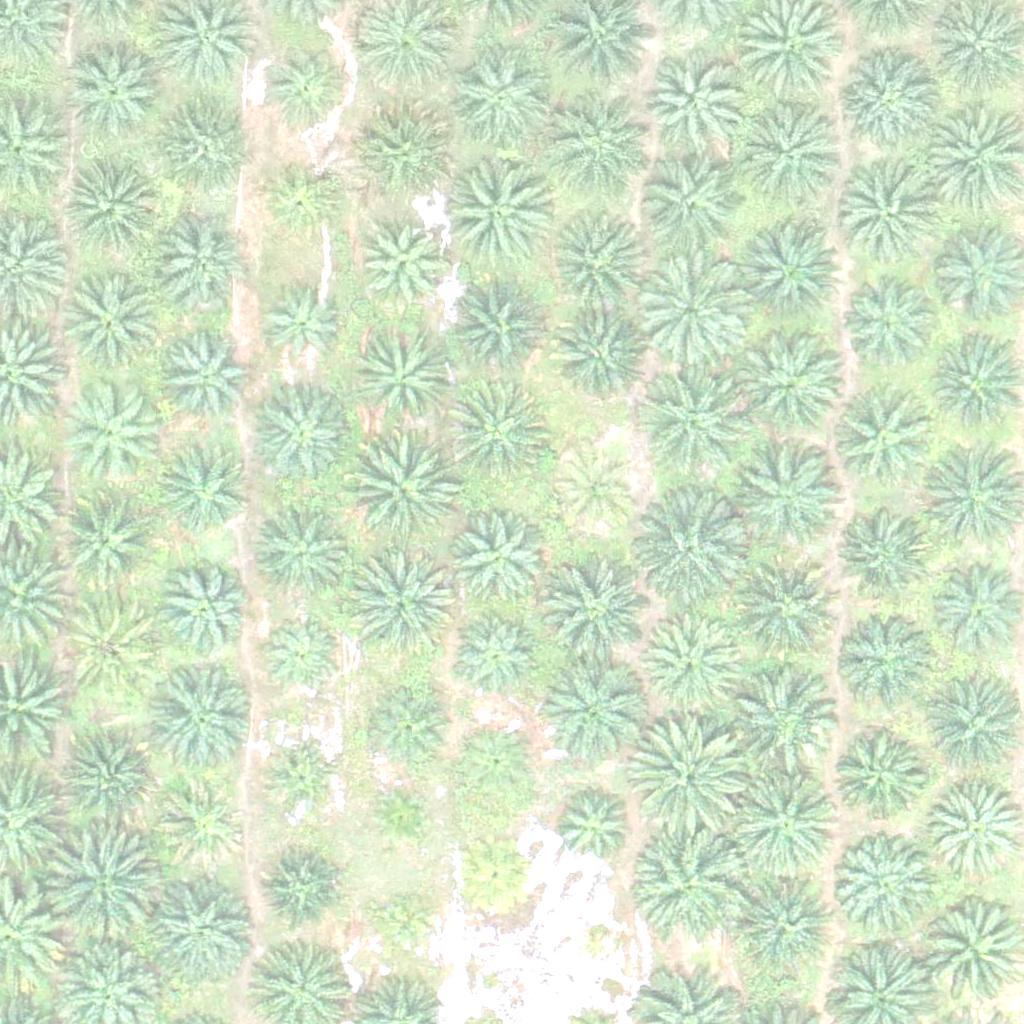Kelapa_Sawit: (633, 368, 746, 482), (434, 154, 547, 267), (636, 825, 749, 938), (726, 661, 839, 774), (633, 494, 746, 607), (343, 547, 456, 660), (344, 435, 457, 548), (729, 762, 841, 876), (631, 714, 743, 828), (634, 253, 746, 366), (735, 96, 847, 209), (42, 830, 154, 943), (145, 871, 257, 984), (442, 377, 554, 490), (144, 661, 256, 774), (540, 560, 652, 673), (535, 653, 647, 766), (67, 157, 167, 258), (67, 40, 167, 141), (151, 104, 251, 205), (156, 213, 256, 314), (366, 100, 466, 201), (448, 47, 548, 148), (439, 276, 539, 377), (542, 207, 642, 308), (552, 107, 652, 208), (643, 50, 743, 151), (741, 215, 841, 316), (842, 46, 942, 147), (841, 171, 941, 272), (826, 727, 926, 828), (833, 835, 933, 936), (642, 615, 742, 716), (447, 509, 547, 610), (351, 328, 451, 429), (249, 388, 349, 489), (251, 501, 351, 602), (153, 560, 253, 661), (59, 378, 159, 479), (56, 488, 156, 589), (63, 271, 163, 371), (636, 157, 736, 257), (57, 731, 157, 831), (740, 873, 840, 973), (838, 605, 938, 705), (830, 385, 930, 485), (835, 501, 935, 601), (741, 334, 841, 434), (741, 451, 841, 551), (733, 564, 833, 664), (543, 304, 643, 404), (62, 597, 162, 697), (451, 829, 539, 918), (260, 152, 348, 240), (260, 39, 348, 127), (355, 220, 443, 308), (451, 716, 539, 804), (552, 447, 640, 535), (256, 614, 344, 702), (159, 446, 247, 534), (158, 337, 246, 425), (453, 612, 540, 701), (255, 284, 342, 372), (844, 280, 931, 368), (159, 779, 246, 867), (258, 843, 345, 931), (547, 784, 634, 872), (362, 686, 449, 774), (362, 778, 437, 854), (366, 886, 441, 962), (268, 749, 343, 824)
